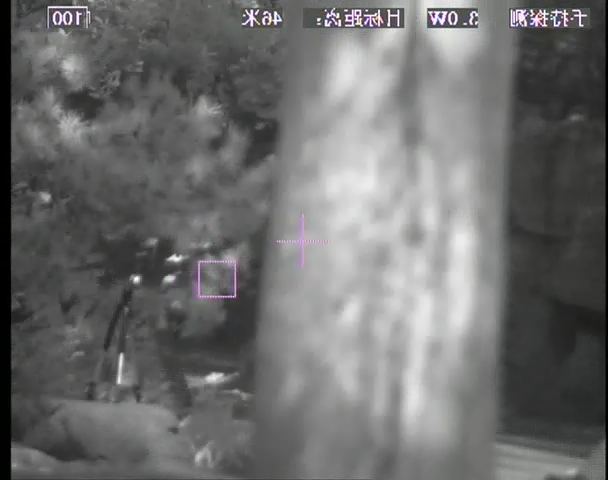my: (129, 272, 140, 285)
